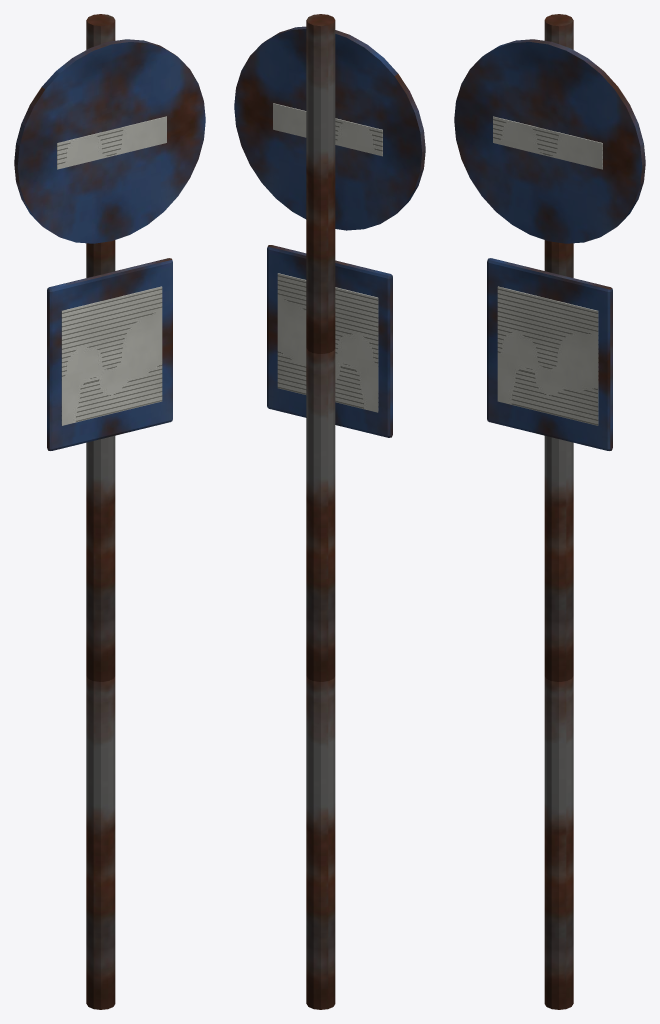
Rendered from ST08_BusStopSign.glb.
3 renders of one model, left to right at view 1: azimuth 30°, elevation 25°; view 2: azimuth 150°, elevation 25°; view 3: azimuth 330°, elevation 25°, orthographic.
Parts seen in each view (by area): view 1: ST08_BusStopSign; view 2: ST08_BusStopSign; view 3: ST08_BusStopSign.
Boxes of the visible parts, x1,y1,x2,y2 form: ST08_BusStopSign: (14,14,205,1009); ST08_BusStopSign: (234,14,425,1009); ST08_BusStopSign: (454,14,645,1009).
Size of the model in its own units: 0.6 by 3 by 0.1025.
3 materials, 3 textured.
